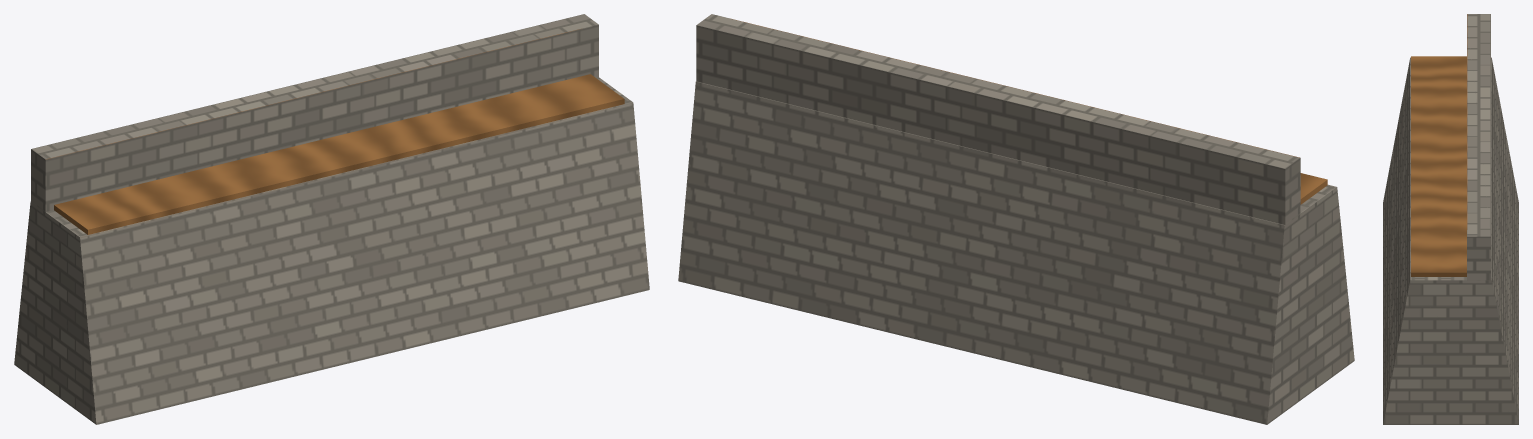
The model's file is fort_l4_edge.glb.
3 renders of one model, left to right at view 1: azimuth 30°, elevation 25°; view 2: azimuth 150°, elevation 25°; view 3: azimuth 270°, elevation 25°, orthographic. The views are drawn at different scales.
Parts seen in each view (by area): view 1: fort_l4_edge; view 2: fort_l4_edge; view 3: fort_l4_edge.
Part boxes in pixels (left/top/right/bottom): fort_l4_edge: left=14, top=14, right=649, bottom=424; fort_l4_edge: left=678, top=14, right=1354, bottom=424; fort_l4_edge: left=1383, top=14, right=1518, bottom=424.
Bounding box in the file's own units: 0.66 × 0.26 × 0.17.
1 material, 1 textured.
